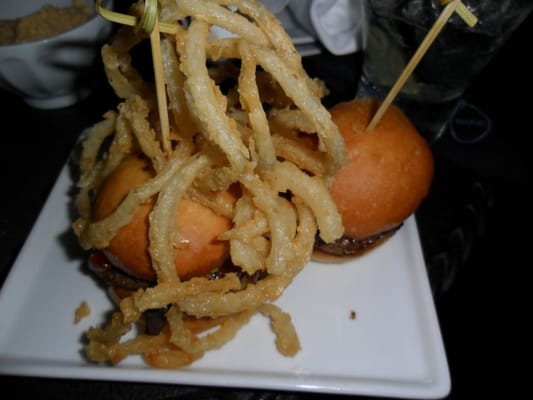soup: (9, 1, 436, 370)
